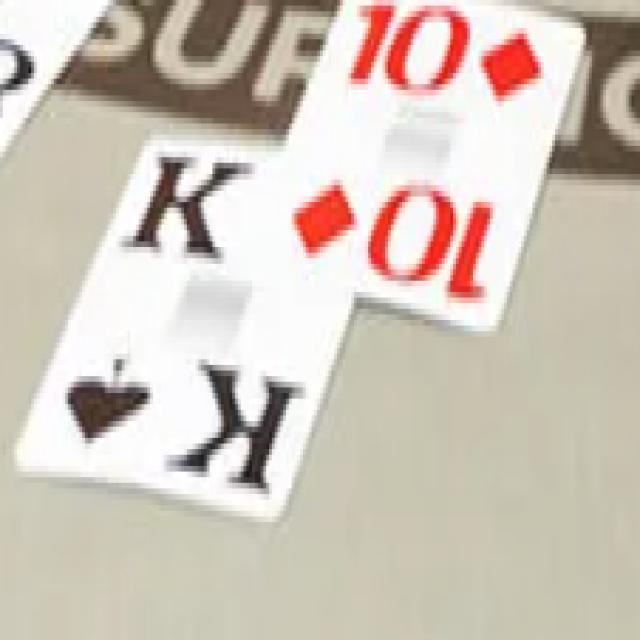Card-10: (247, 0, 584, 330)
Card-K: (12, 134, 352, 520)
